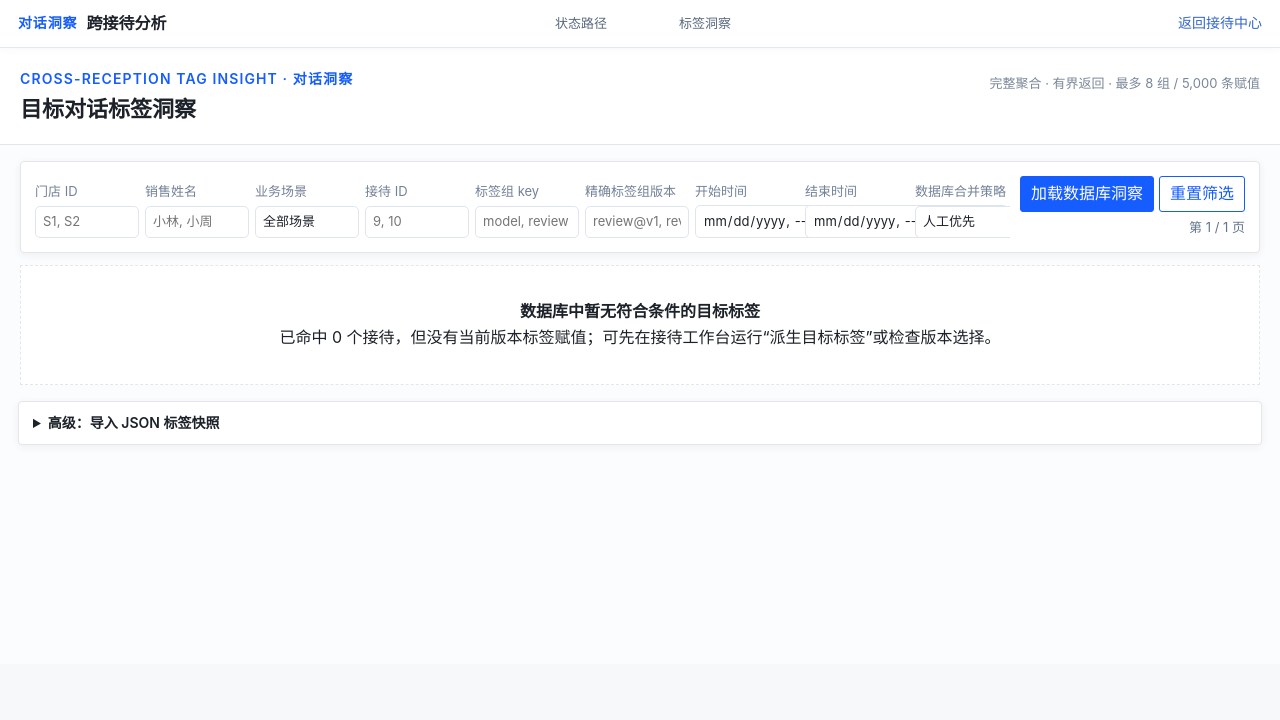
Test: TagInsightsPage › rejects mixing broad group keys with exact historical versions
Expected: the text "数据库中暂无符合条件的目标标签" is shown, [520, 301, 760, 321]
Type "review" into the field labelled "标签组 key".
click(527, 222); type("review")  # box [475, 206, 579, 238]
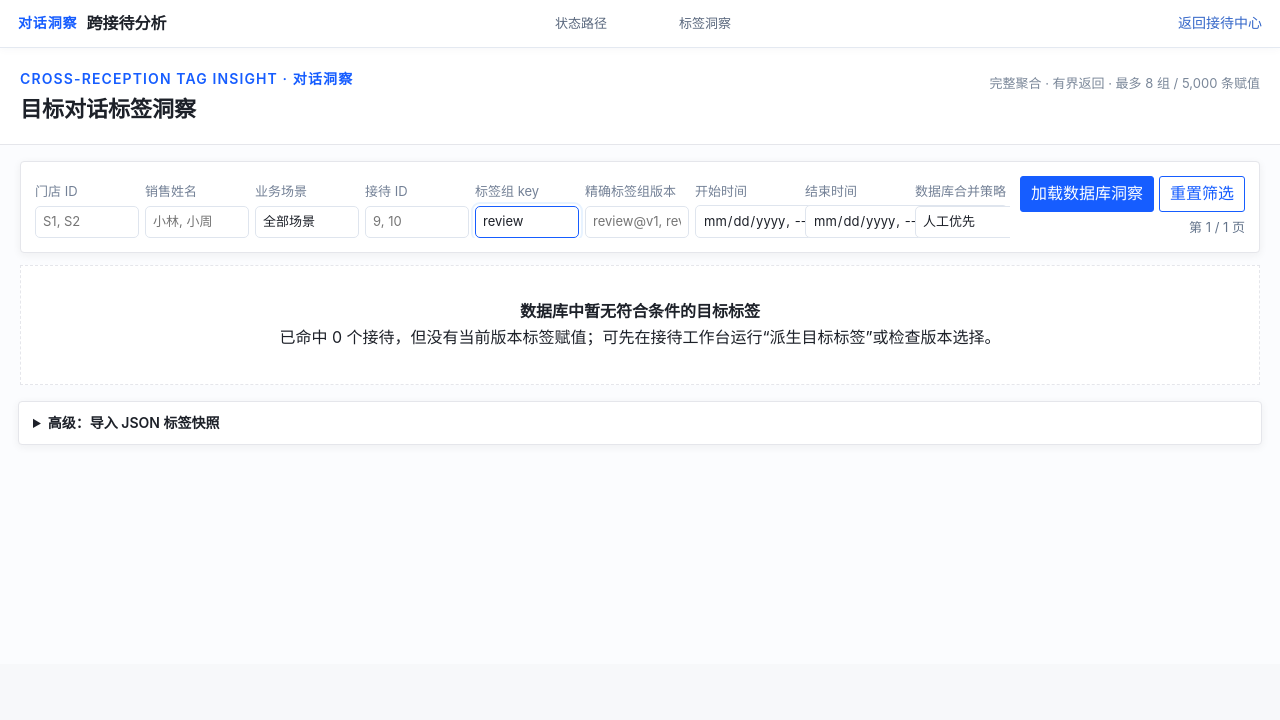
Type "review@v1" into the field labelled "精确标签组版本".
click(637, 222); type("review@v1")  # box [585, 206, 689, 238]
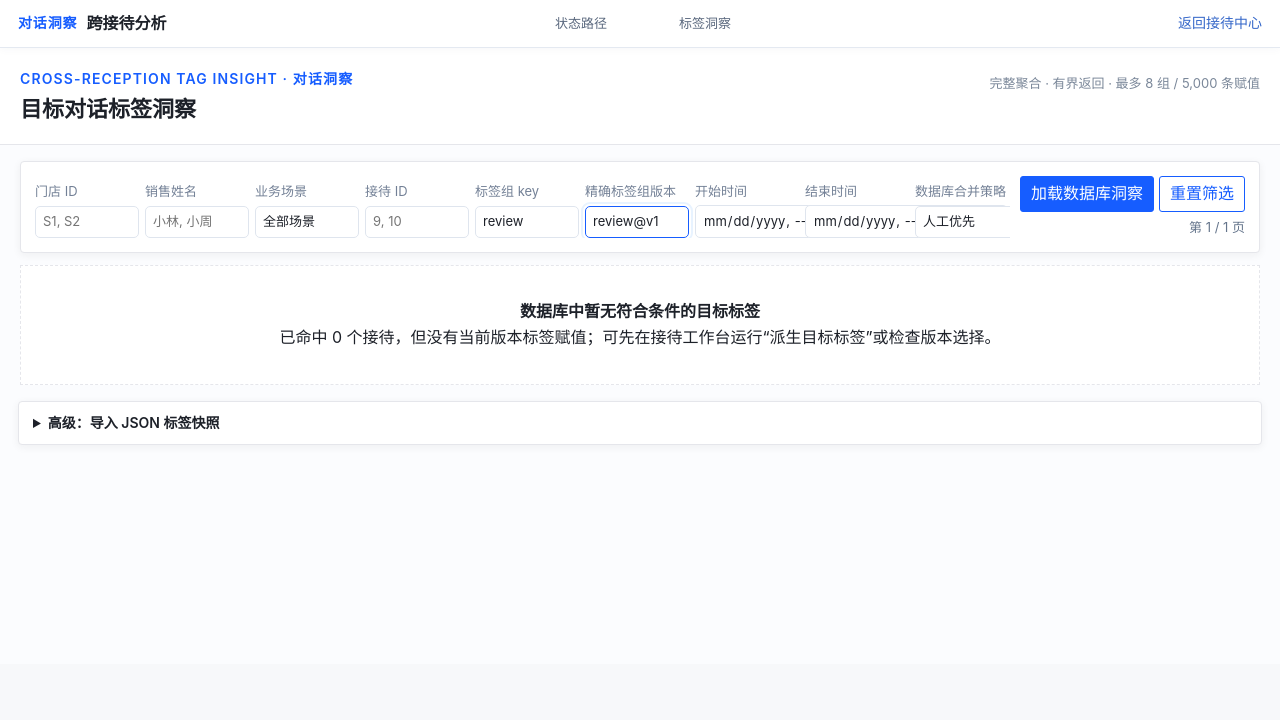
Click the button "加载数据库洞察".
click(1087, 194)  # box [1020, 176, 1154, 212]
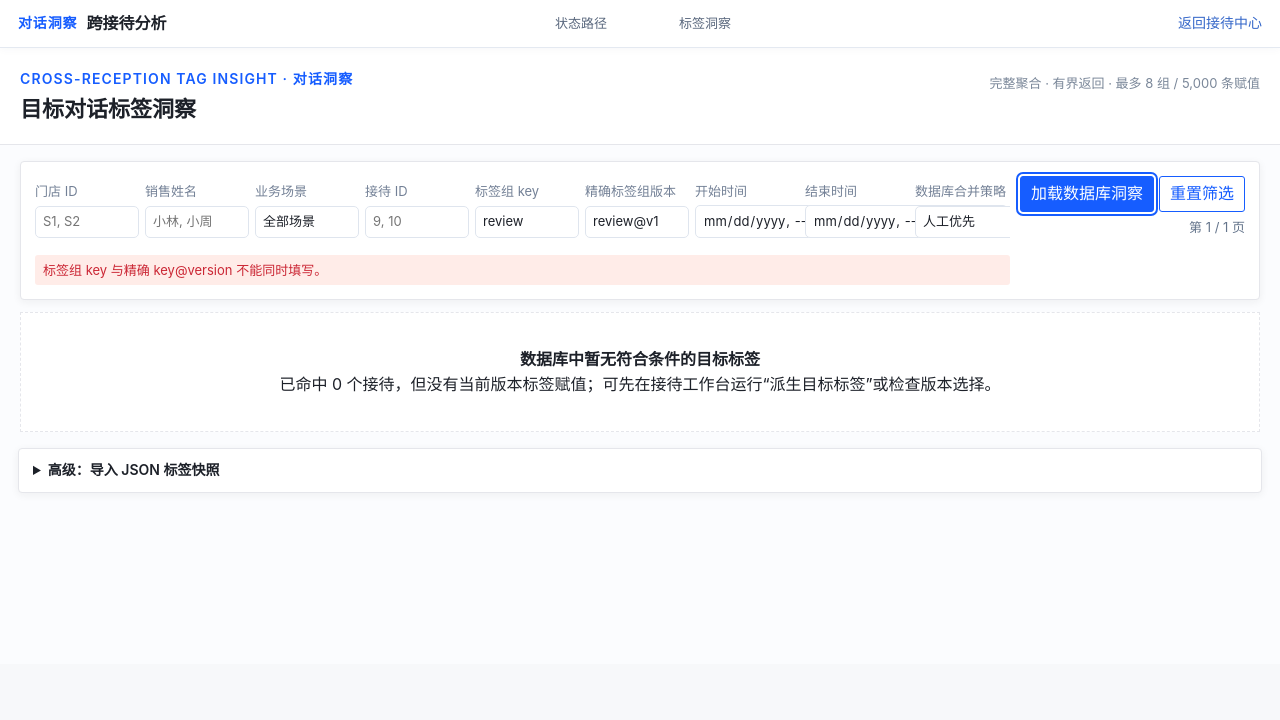
Now the text "标签组 key 与精确 key@version 不能同时填写。" is shown, box [35, 255, 1010, 286]
